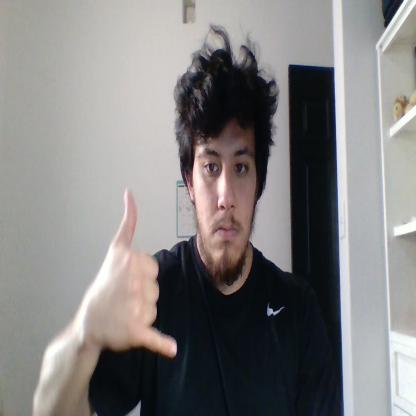Y: (105, 189, 178, 357)
